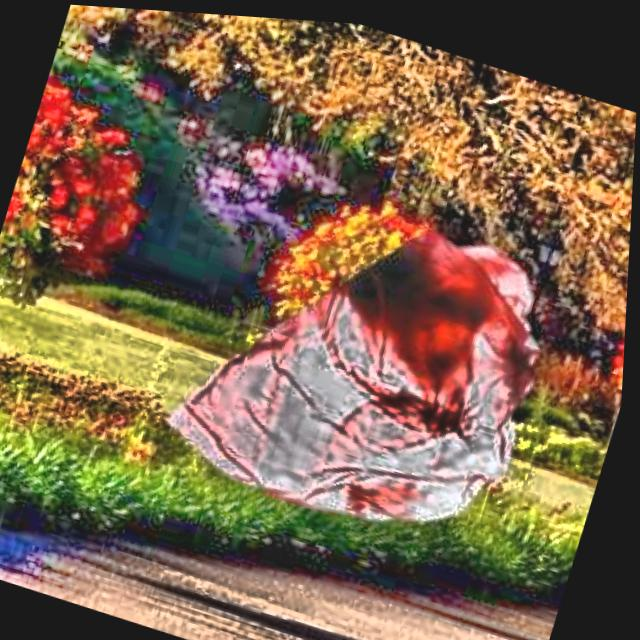Plastic: (141, 145, 591, 569)
